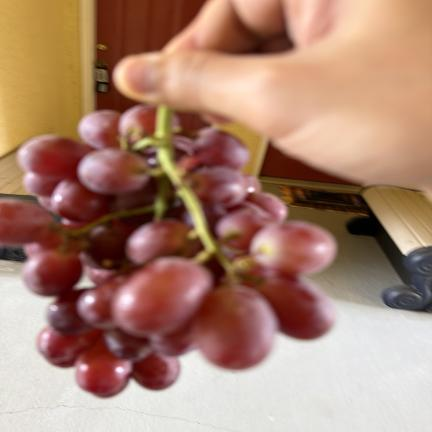grape_cluster: (0, 105, 337, 397)
